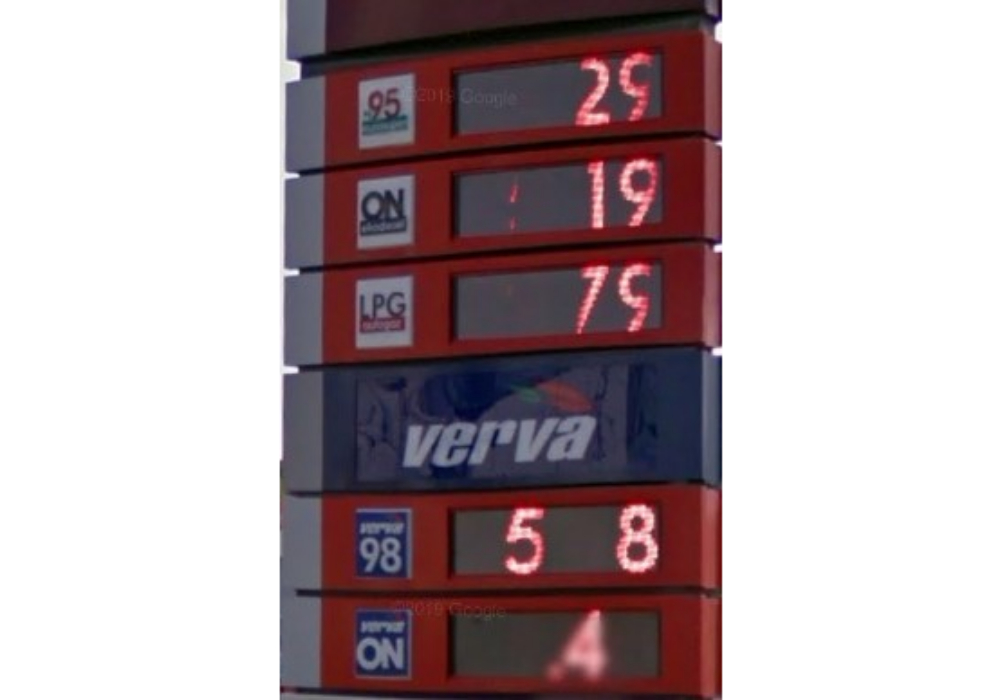LPG: (353, 273, 413, 351)
ON: (353, 170, 415, 256), (354, 599, 411, 679)
PB95: (356, 74, 413, 149)
PB98: (355, 502, 410, 581)
